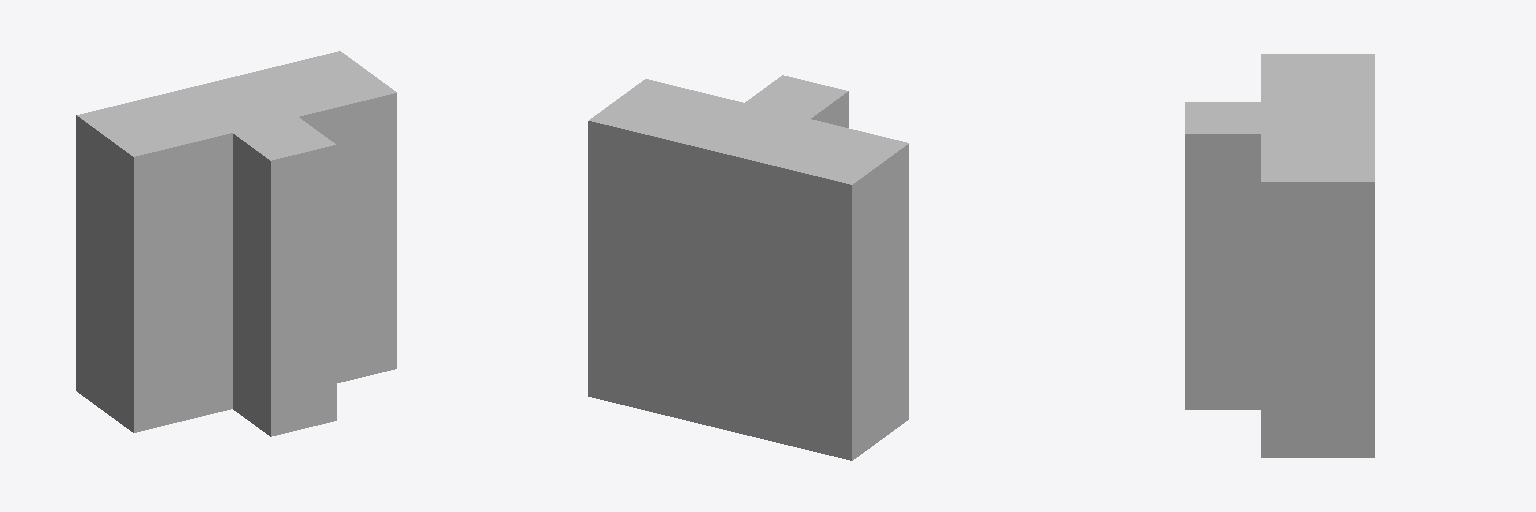
File: E3-Anl01-p01.obj
3 renders of one model, left to right at view 1: azimuth 30°, elevation 25°; view 2: azimuth 150°, elevation 25°; view 3: azimuth 270°, elevation 25°, orthographic.
Visible parts, largest first — view 1: mesh8, mesh4, mesh2, mesh6, mesh9, mesh7; view 2: mesh0, mesh6, mesh9, mesh7; view 3: mesh1, mesh3, mesh6.
Boxes of the visible parts, x1,y1,x2,y2 form: mesh8: [134, 133, 232, 432]; mesh4: [271, 145, 336, 436]; mesh2: [299, 93, 396, 382]; mesh6: [77, 51, 396, 160]; mesh9: [76, 115, 133, 432]; mesh7: [233, 134, 270, 436]; mesh0: [588, 121, 851, 460]; mesh6: [589, 75, 908, 184]; mesh9: [852, 144, 908, 460]; mesh7: [811, 91, 848, 127]; mesh1: [1261, 182, 1374, 457]; mesh3: [1185, 134, 1260, 409]; mesh6: [1185, 54, 1374, 181].
Size of the model in its own units: 0.02 by 0.02 by 0.0125.